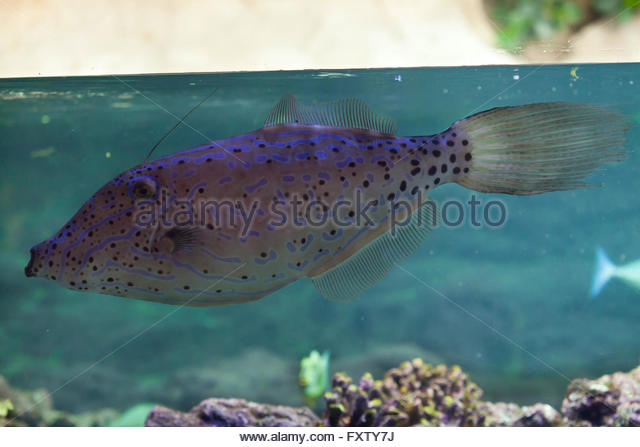Aluterus_scriptus: (26, 93, 626, 317)
